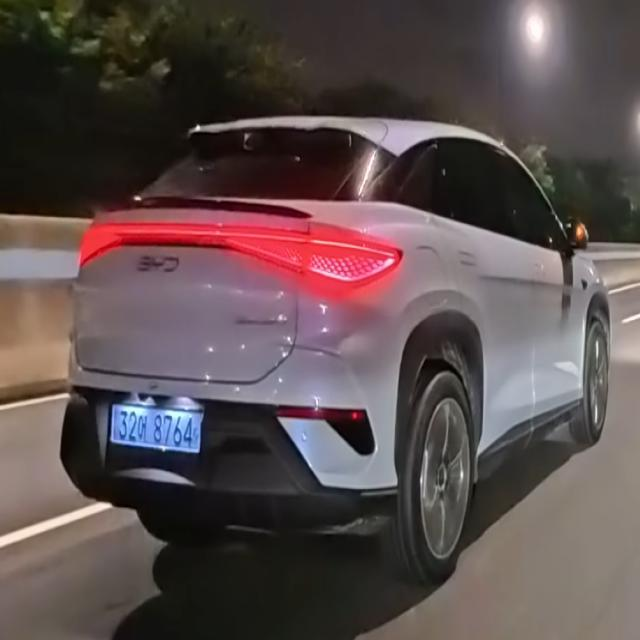car: (93, 364, 238, 490)
carev: (191, 408, 206, 458), (108, 401, 120, 446)
